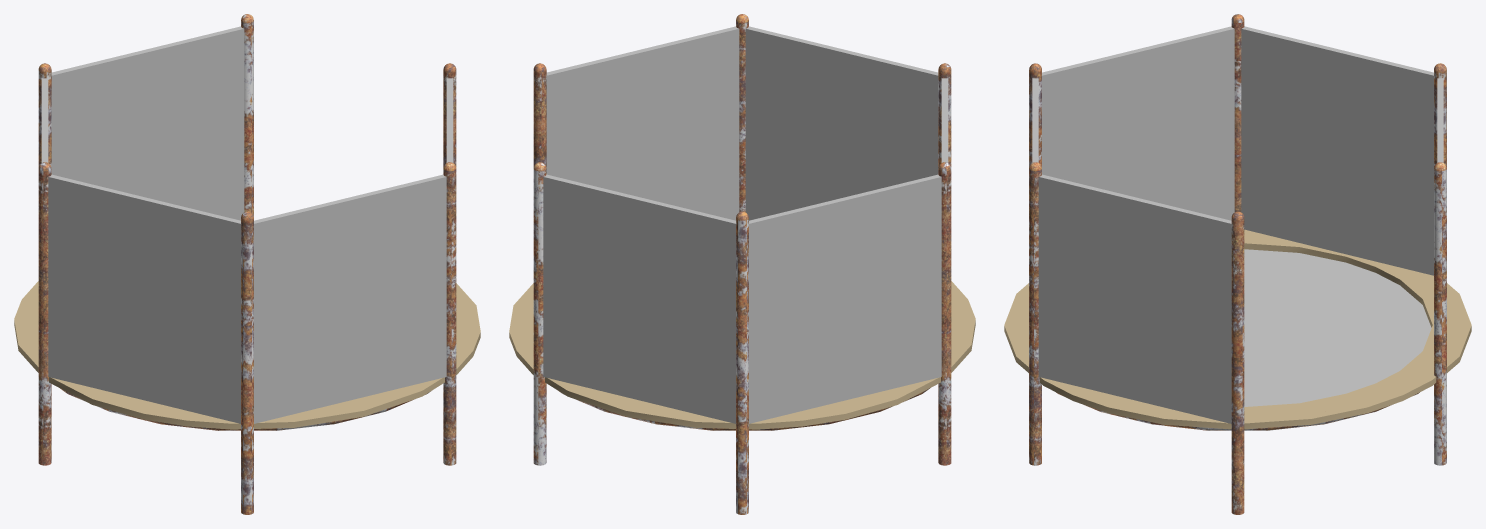
The model's file is Trampoline.fbx.
3 views of the same model, side by side, from view 1: azimuth 30°, elevation 25°; view 2: azimuth 150°, elevation 25°; view 3: azimuth 270°, elevation 25° (orthographic).
Visible parts, largest first — view 1: Trampoline; view 2: Trampoline; view 3: Trampoline.
Boxes of the visible parts, x1=… form: Trampoline: x1=14, y1=14, x2=480, y2=514; Trampoline: x1=509, y1=14, x2=975, y2=514; Trampoline: x1=1004, y1=14, x2=1471, y2=514.
Size of the model in its own units: 420 by 290 by 409.
